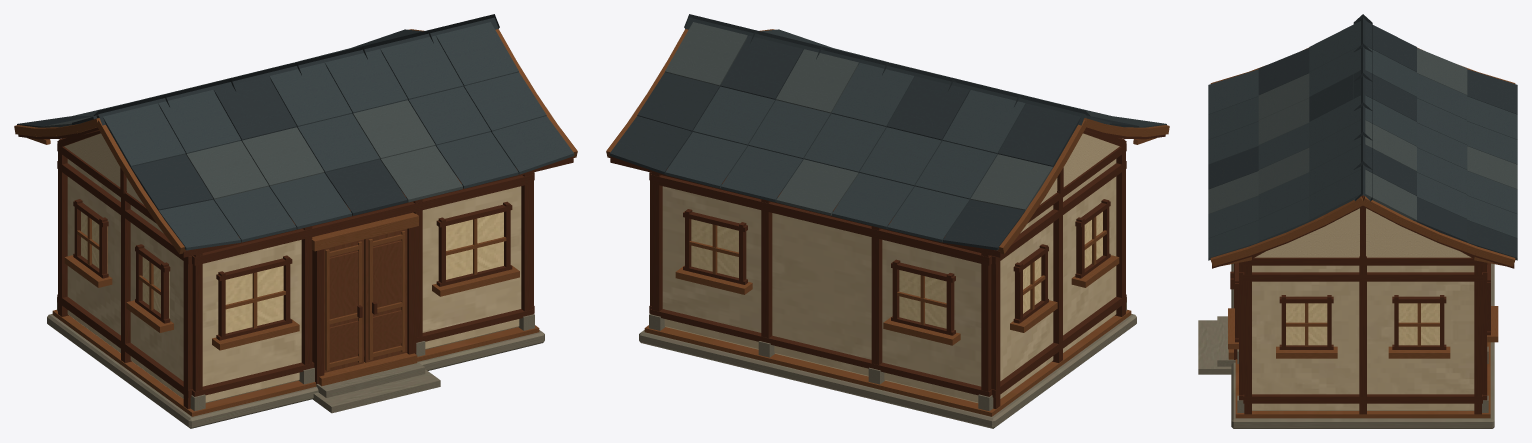
File: street_house.glb
3 renders of one model, left to right at view 1: azimuth 30°, elevation 25°; view 2: azimuth 150°, elevation 25°; view 3: azimuth 270°, elevation 25°, orthographic. The views are drawn at different scales.
Parts seen in each view (by area): view 1: Roof_PaperTiles, House_CompleteShell, Windows_Front, Frame_FrontBeams, Frame_FrontPosts, Door_Inserts, Windows_Sides, Foundation_Lower, Frame_SidePosts, Frame_SideBeams, Foundation_PaperLip, Roof_Ridge (+13 smaller); view 2: Roof_PaperTiles, House_CompleteShell, Windows_Back, Frame_BackBeams, Frame_BackPosts, Foundation_Lower, Windows_Sides, Foundation_PaperLip, Frame_SidePosts, Frame_SideBeams, Roof_Ridge, Roof_Bargeboards (+2 smaller); view 3: Roof_PaperTiles, House_CompleteShell, Windows_Sides, Frame_SideBeams, Gable_Paper.001, Foundation_Lower, Frame_SidePosts, Roof_Bargeboards, Foundation_PaperLip, Roof_Ridge, Front_Step_Lower, Frame_FrontPosts (+6 smaller).
Part boxes in pixels (x1,y1,x2,y2): Roof_PaperTiles: (17,22,574,250); House_CompleteShell: (67,159,521,402); Windows_Front: (212,201,519,350); Frame_FrontBeams: (192,174,533,396); Frame_FrontPosts: (190,173,534,411); Door_Inserts: (329,240,401,360); Windows_Sides: (64,199,173,332); Foundation_Lower: (47,314,544,428); Frame_SidePosts: (58,152,533,408); Frame_SideBeams: (57,143,534,397); Foundation_PaperLip: (52,309,539,416); Roof_Ridge: (93,14,499,125); Roof_PaperTiles: (609,22,1166,250); House_CompleteShell: (662,159,1116,402); Windows_Back: (675,209,960,345); Frame_BackBeams: (650,174,991,396); Frame_BackPosts: (649,173,993,411); Foundation_Lower: (639,314,1136,428); Windows_Sides: (1010,199,1119,332); Foundation_PaperLip: (644,309,1131,416); Frame_SidePosts: (650,152,1125,408); Frame_SideBeams: (649,143,1126,397); Roof_Ridge: (684,14,1090,125); Roof_Bargeboards: (606,29,1169,254); Roof_PaperTiles: (1208,21,1517,260); House_CompleteShell: (1252,265,1474,410); Windows_Sides: (1276,295,1450,358); Frame_SideBeams: (1243,257,1482,403); Gable_Paper.001: (1255,208,1470,257); Foundation_Lower: (1231,263,1494,428); Frame_SidePosts: (1244,256,1481,414); Roof_Bargeboards: (1210,47,1515,266); Foundation_PaperLip: (1235,342,1490,418); Roof_Ridge: (1353,14,1372,201); Front_Step_Lower: (1198,320,1231,374); Frame_FrontPosts: (1237,265,1244,412).
Bounding box in the file's own units: 7.07 × 4.62 × 5.39.
Materials: 9 (9 with a texture image).
